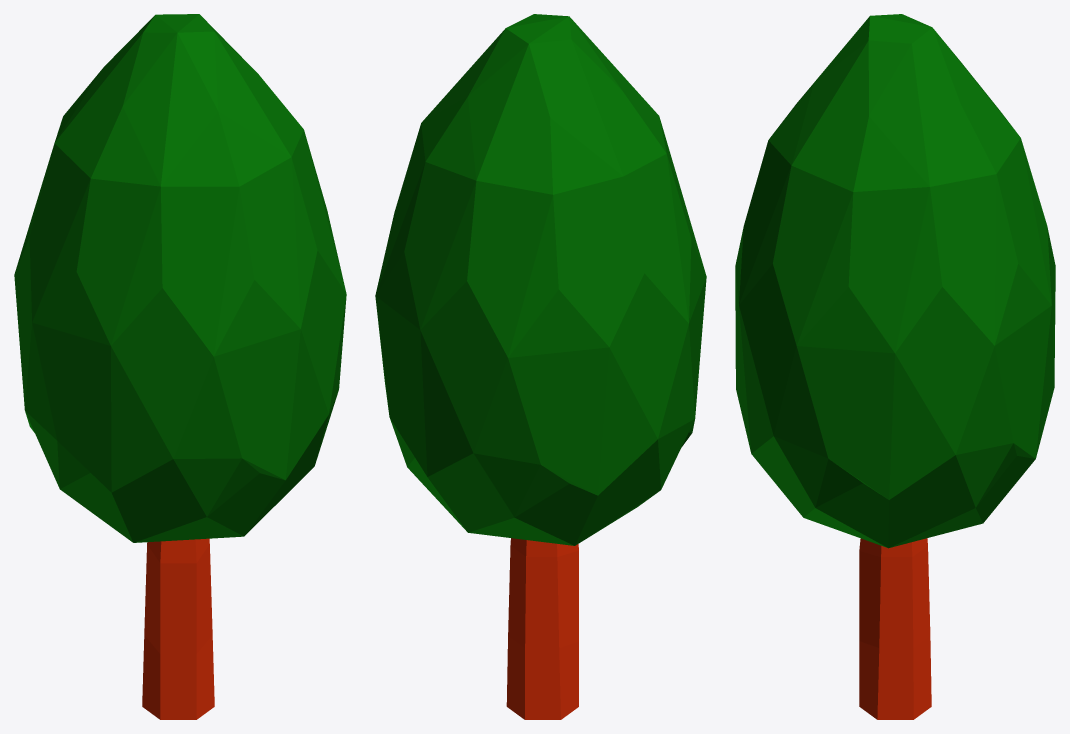
The model's file is CienkieDrzewo.fbx.
The picture shows the model from 3 angles, left to right: view 1: azimuth 30°, elevation 25°; view 2: azimuth 150°, elevation 25°; view 3: azimuth 270°, elevation 25°; orthographic projection.
Visible parts, largest first — view 1: Kula ico, Walec; view 2: Kula ico, Walec; view 3: Kula ico, Walec.
Boxes of the visible parts, x1,y1,x2,y2 form: Kula ico: (14,14,346,542); Walec: (142,538,214,719); Kula ico: (375,14,706,545); Walec: (506,538,578,719); Kula ico: (735,14,1055,548); Walec: (859,538,931,719).
Size of the model in its own units: 920 by 2087 by 886.
